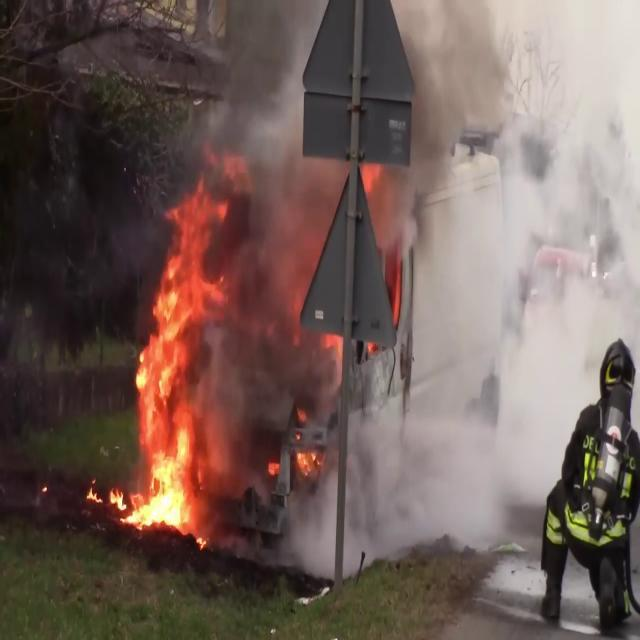Fire: (97, 182, 235, 542)
Smoke: (376, 0, 640, 540), (188, 1, 320, 488)
